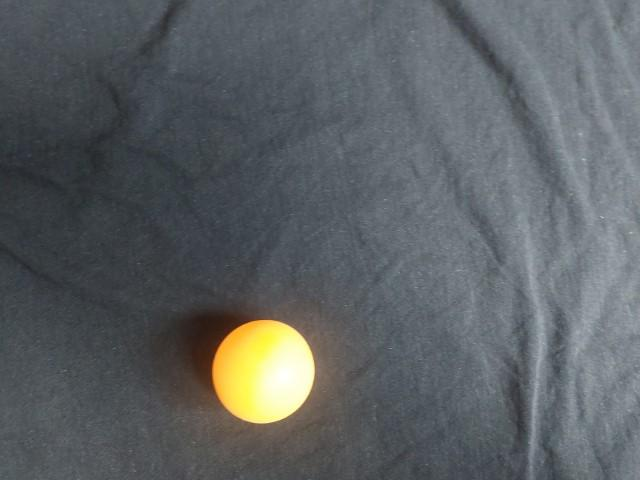oball: (317, 51, 433, 168)
